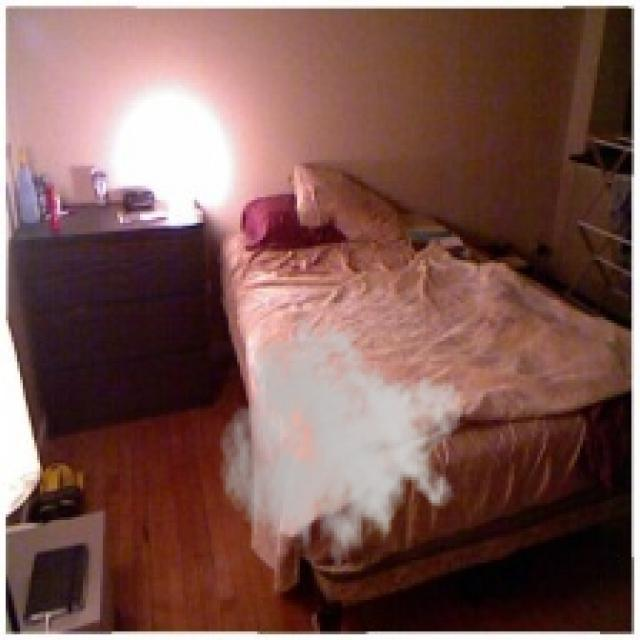Smoke: (217, 314, 463, 583)
